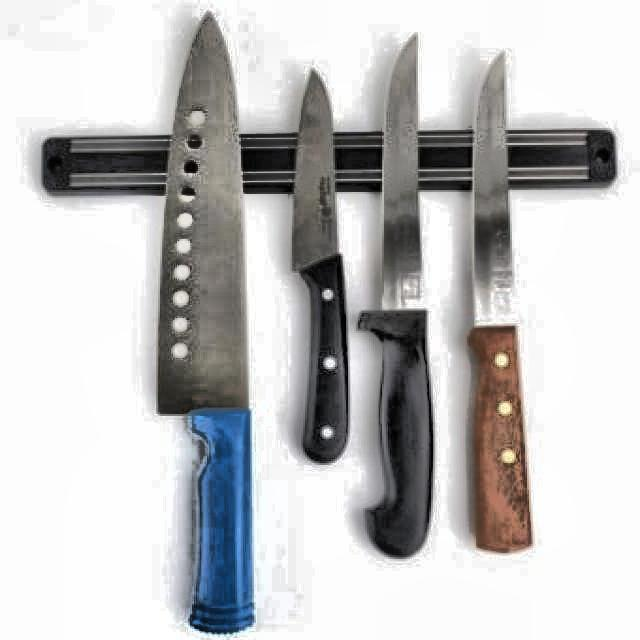knife: (153, 11, 256, 636), (356, 31, 438, 557), (464, 51, 540, 557), (288, 65, 353, 468)
